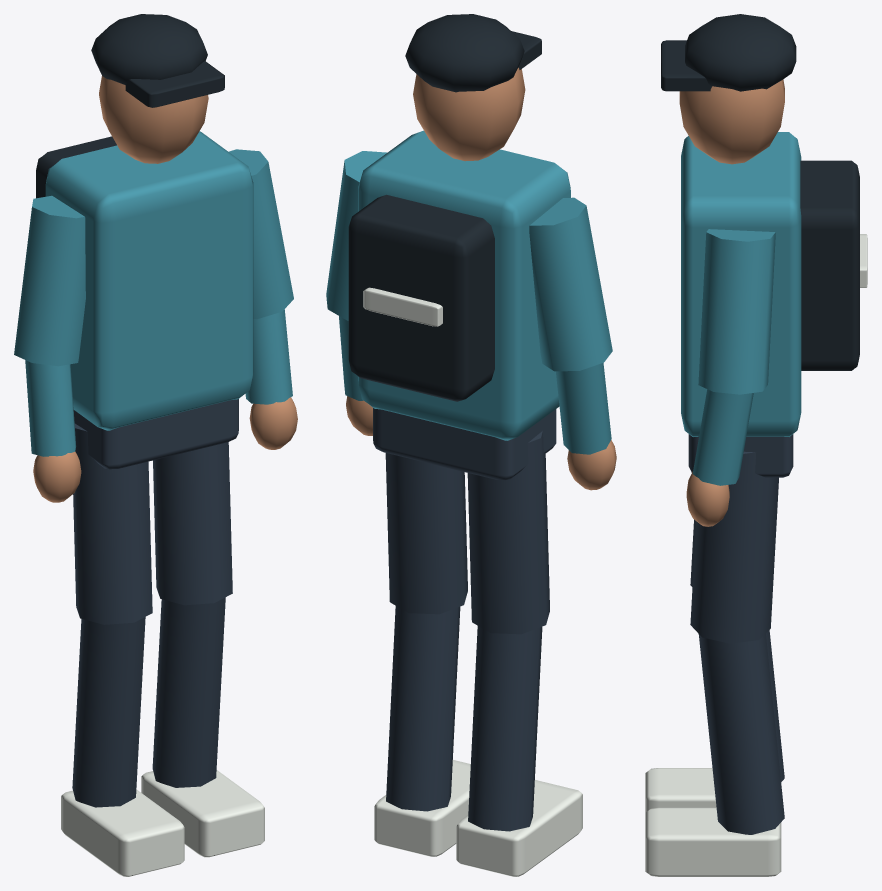
The model's file is pedestrian.glb.
3 views of the same model, side by side, from view 1: azimuth 30°, elevation 25°; view 2: azimuth 150°, elevation 25°; view 3: azimuth 270°, elevation 25° (orthographic). The views are drawn at different scales.
Parts seen in each view (by area): view 1: pedestrian, Leg_-1, Leg_1, Arm_-1, Arm_1; view 2: pedestrian, Leg_-1, Leg_1, Arm_-1, Arm_1; view 3: pedestrian, Leg_1, Arm_1, Leg_-1.
Boxes of the visible parts, x1=… form: pedestrian: x1=36, y1=14, x2=253, y2=469; Leg_-1: x1=61, y1=423, x2=184, y2=876; Leg_1: x1=141, y1=442, x2=264, y2=857; Arm_-1: x1=14, y1=195, x2=85, y2=502; Arm_1: x1=228, y1=149, x2=297, y2=449; pedestrian: x1=348, y1=14, x2=570, y2=479; Leg_-1: x1=456, y1=431, x2=582, y2=876; Leg_1: x1=374, y1=453, x2=470, y2=856; Arm_-1: x1=529, y1=197, x2=616, y2=490; Arm_1: x1=326, y1=151, x2=386, y2=435; pedestrian: x1=661, y1=14, x2=867, y2=477; Leg_1: x1=645, y1=451, x2=784, y2=876; Arm_1: x1=686, y1=229, x2=775, y2=526; Leg_-1: x1=645, y1=519, x2=784, y2=812.
Size of the model in its own units: 0.6099 by 1.73 by 0.425.
